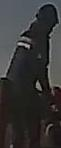vest: (5, 28, 49, 92)
